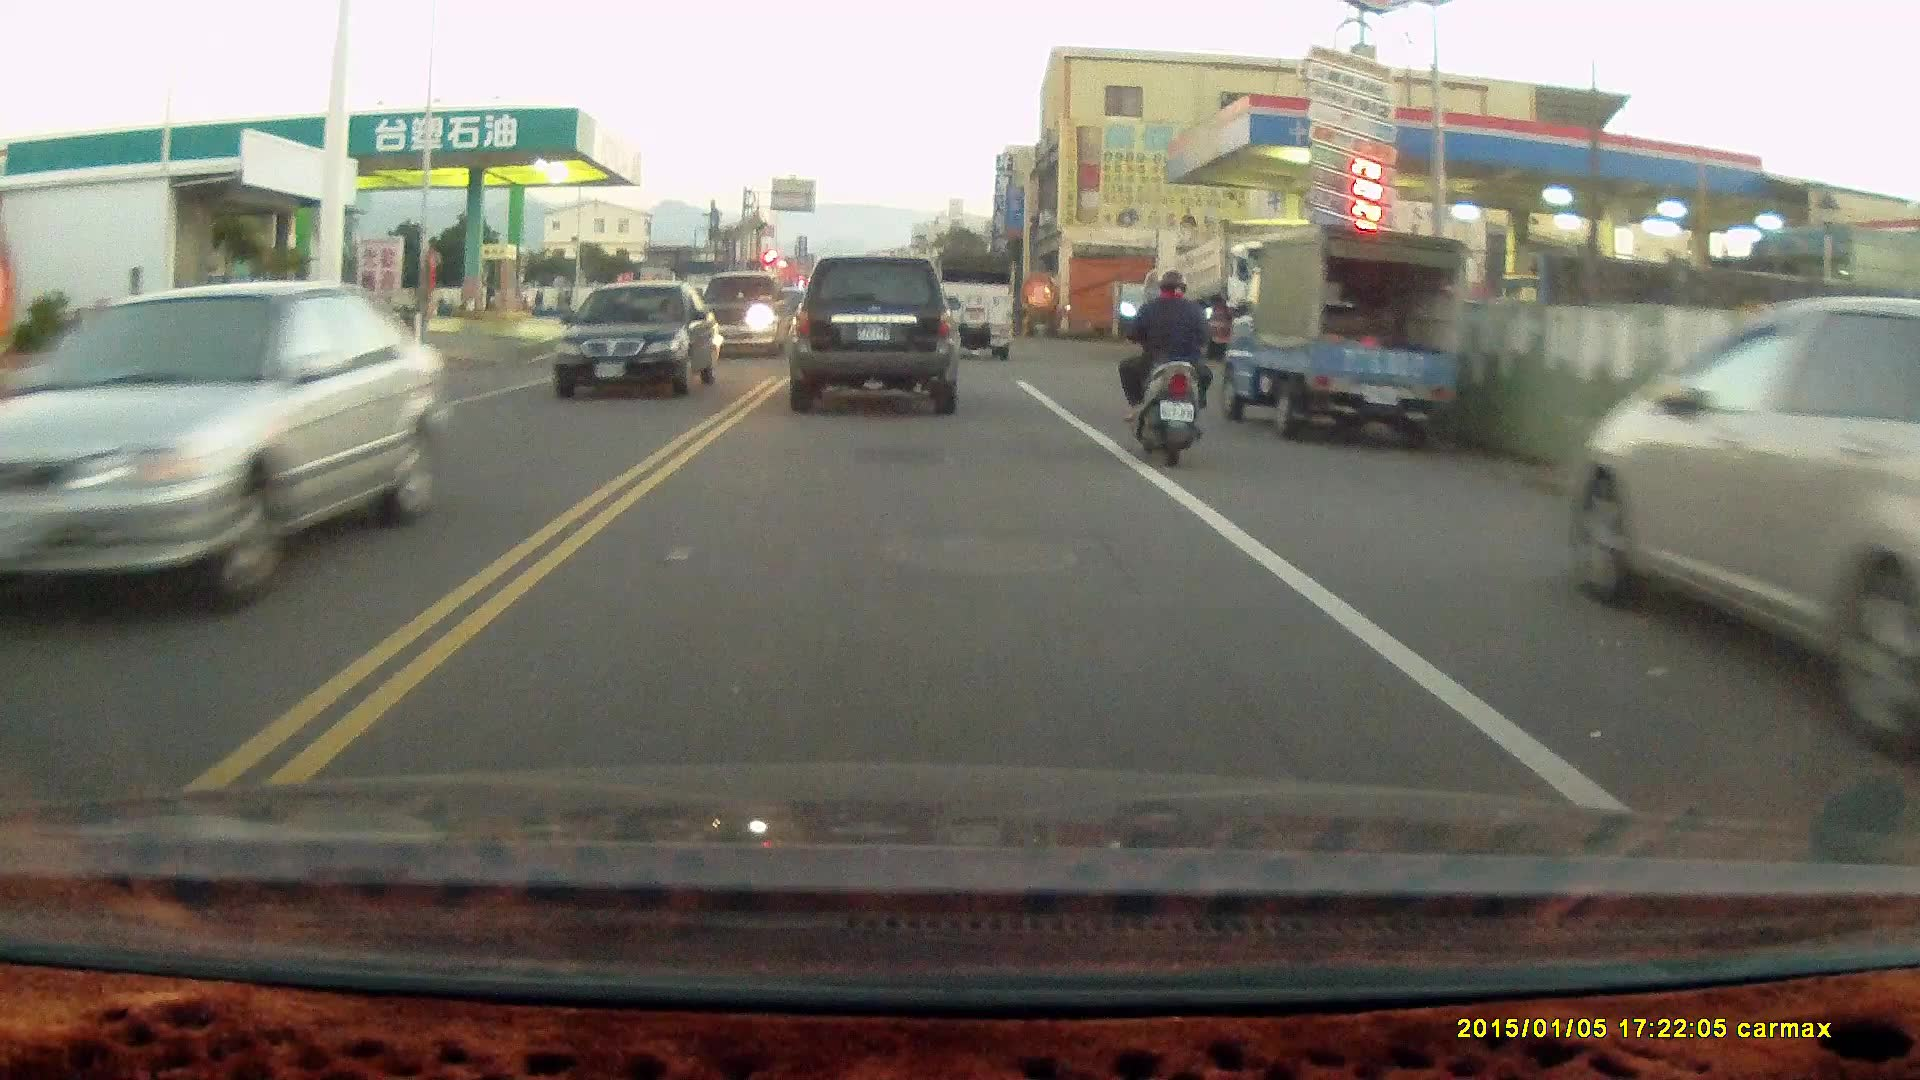rider: (1116, 270, 1217, 466)
vehicle: (1570, 294, 1920, 759), (1, 277, 445, 637), (1223, 222, 1467, 441), (787, 252, 959, 409), (557, 282, 724, 399), (921, 249, 1019, 360), (693, 270, 794, 365)
